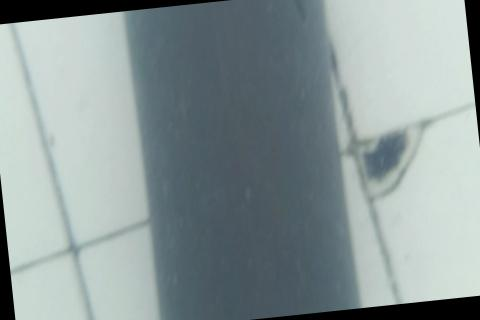keretakan: (286, 0, 309, 27)
